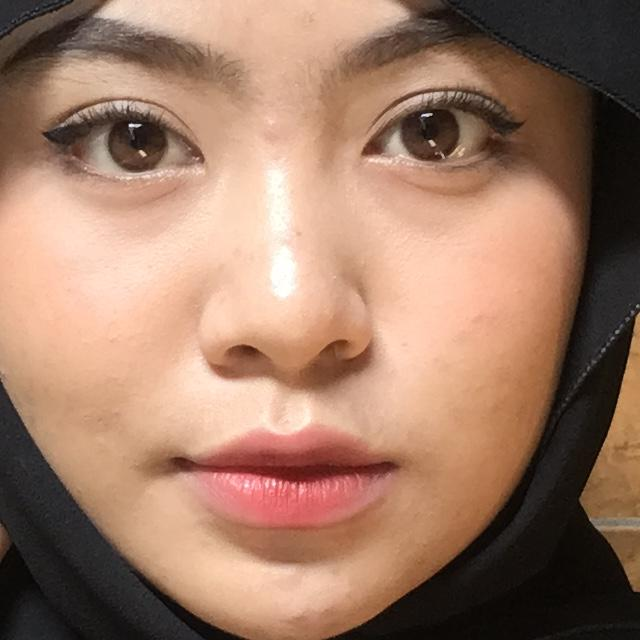ibu: (0, 146, 265, 640)
